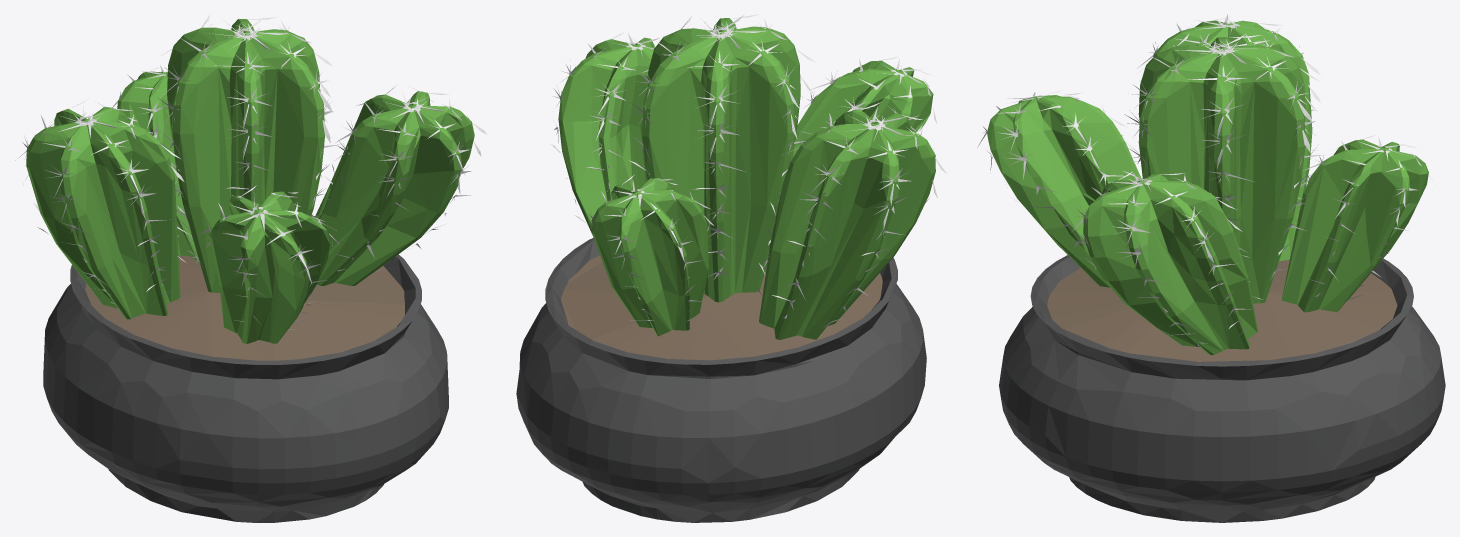
File: sh-bs0-cactus.glb
3 views of the same model, side by side, from view 1: azimuth 30°, elevation 25°; view 2: azimuth 150°, elevation 25°; view 3: azimuth 270°, elevation 25° (orthographic). The views are drawn at different scales.
Visible parts, largest first — view 1: Circle.014_Circle.009, Circle.016_Circle.031, forest-floor-458775_1280, Circle.003; view 2: Circle.014_Circle.009, Circle.016_Circle.031, forest-floor-458775_1280, Circle.003; view 3: Circle.014_Circle.009, Circle.016_Circle.031, forest-floor-458775_1280, Circle.003.
Boxes of the visible parts, x1,y1,x2,y2 form: Circle.014_Circle.009: [26, 19, 474, 343]; Circle.016_Circle.031: [43, 216, 448, 522]; forest-floor-458775_1280: [85, 255, 404, 360]; Circle.003: [15, 14, 487, 330]; Circle.014_Circle.009: [558, 18, 935, 339]; Circle.016_Circle.031: [516, 238, 926, 522]; forest-floor-458775_1280: [561, 255, 882, 360]; Circle.003: [551, 14, 946, 329]; Circle.014_Circle.009: [987, 20, 1428, 355]; Circle.016_Circle.031: [999, 255, 1445, 522]; forest-floor-458775_1280: [1047, 259, 1397, 361]; Circle.003: [977, 14, 1431, 346].
Bounding box in the file's own units: 0.9617 × 0.9823 × 0.9916.
